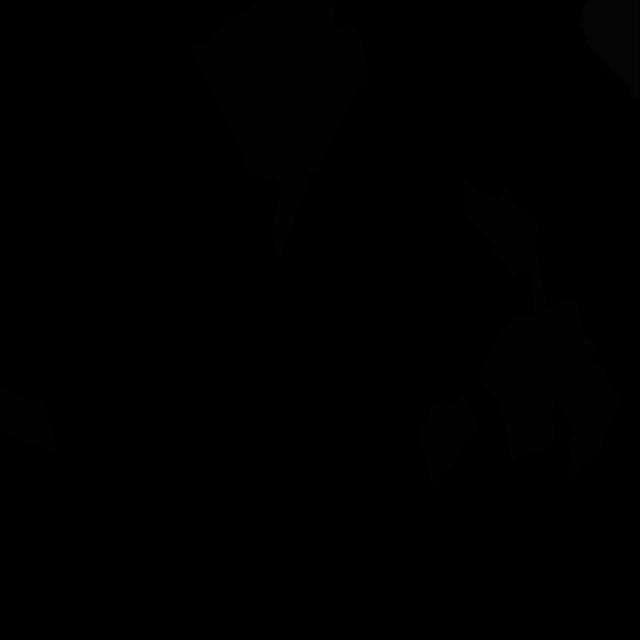cardboard: (188, 0, 370, 260), (477, 295, 622, 477), (461, 169, 548, 322), (419, 393, 477, 489), (0, 386, 58, 451)
soft_plastic: (579, 0, 640, 99)
